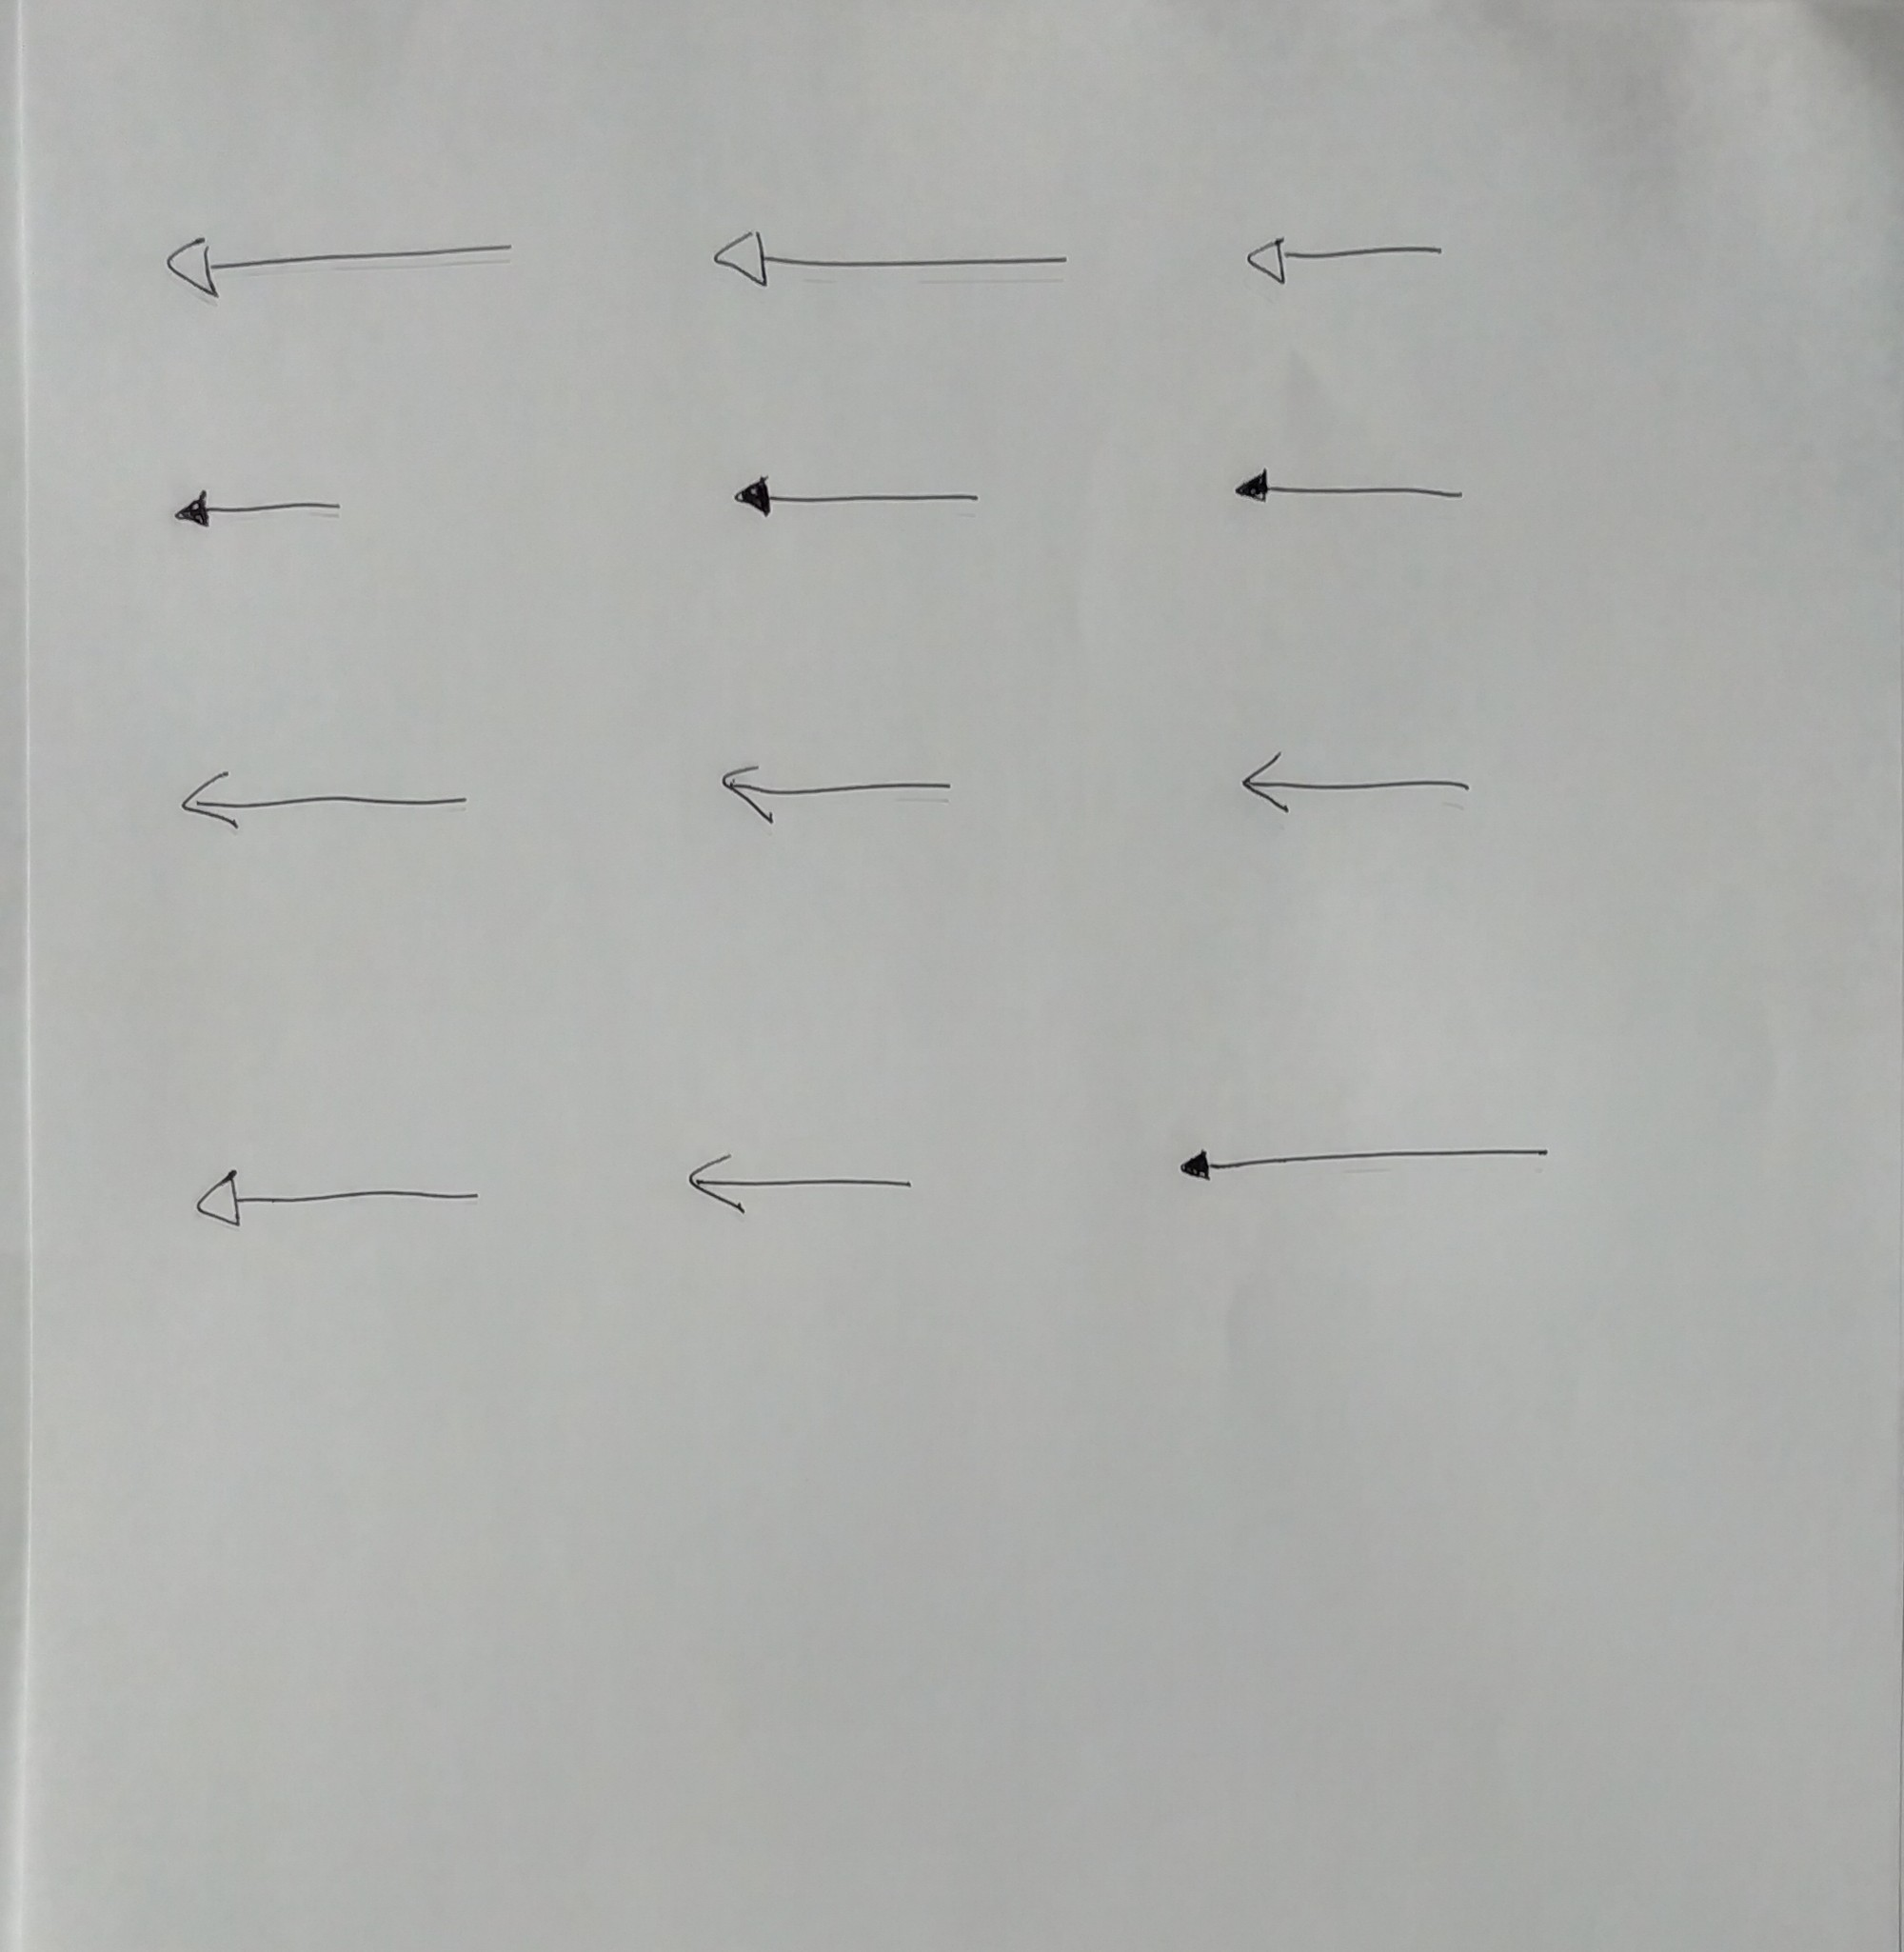arrow_line_left: (706, 215, 1081, 307), (1166, 1120, 1576, 1197), (180, 1150, 495, 1242), (164, 757, 462, 843), (1227, 202, 1472, 305), (1233, 740, 1480, 837), (157, 222, 537, 284), (706, 745, 962, 837), (680, 1134, 933, 1223), (727, 462, 996, 530), (1219, 454, 1486, 522), (157, 476, 361, 543)
